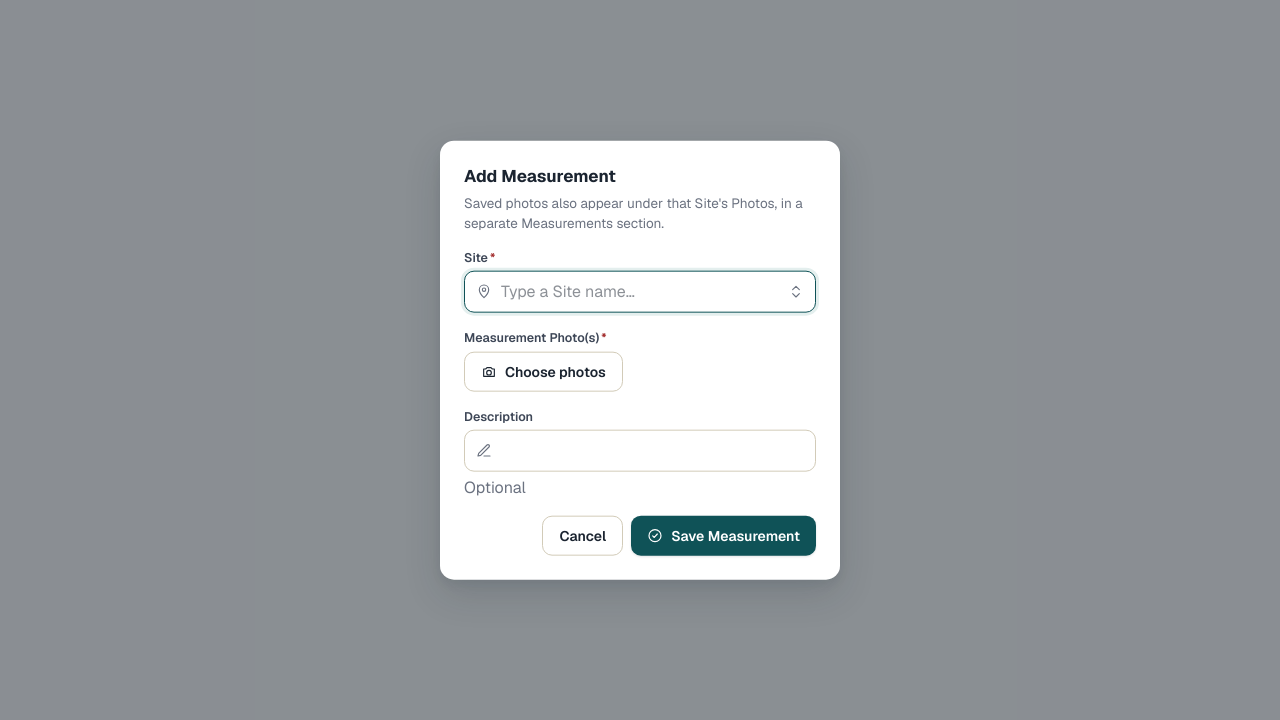
Test: MeasurementQuickEntryPanel › blocks submit with inline errors when Site and photos are both missing
expect the dialog is shown: met, box [440, 141, 840, 579]
Step 1. Click the button "Save Measurement" → (724, 535), box [631, 515, 816, 555]
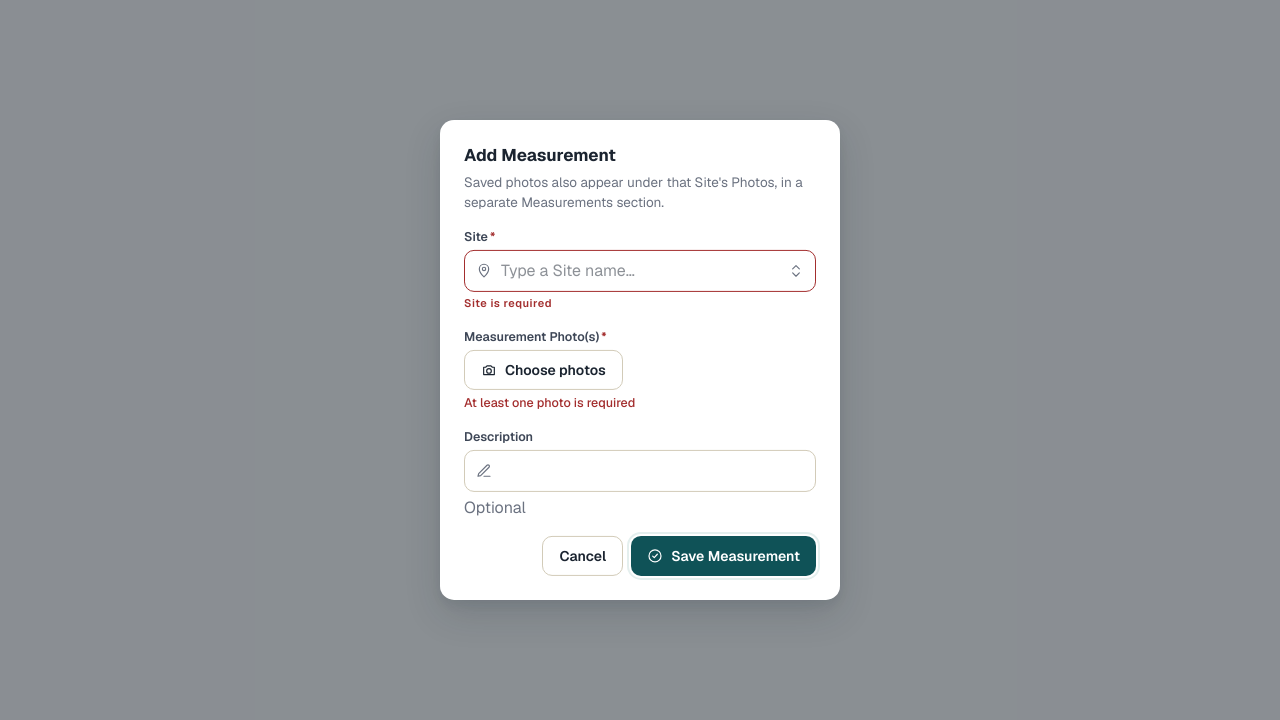
expect the text "Site is required" is shown: met, box [464, 296, 552, 310]
expect the text "At least one photo is required" is shown: met, box [464, 394, 635, 411]
